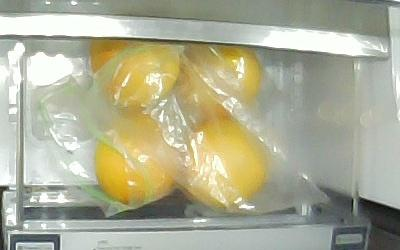grapefruit_vinyl: (94, 114, 181, 204), (183, 118, 267, 209), (88, 38, 180, 115), (179, 43, 263, 119)
